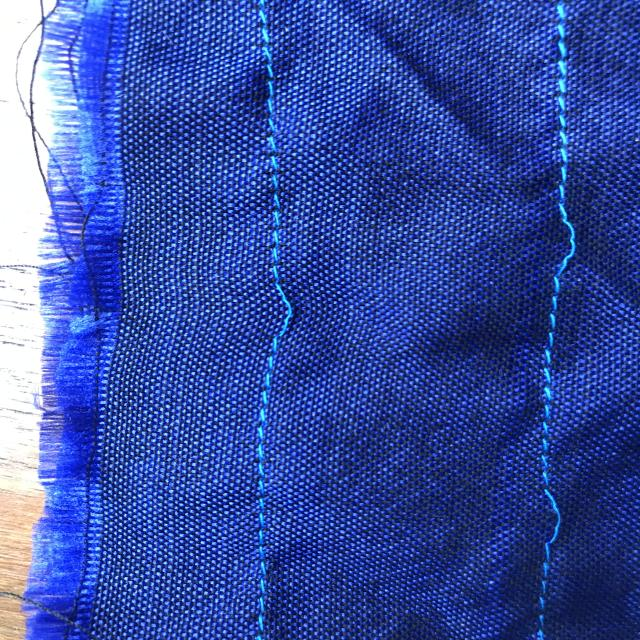good: (536, 34, 589, 141)
skip: (508, 473, 590, 557), (240, 265, 316, 349), (535, 195, 599, 294)
